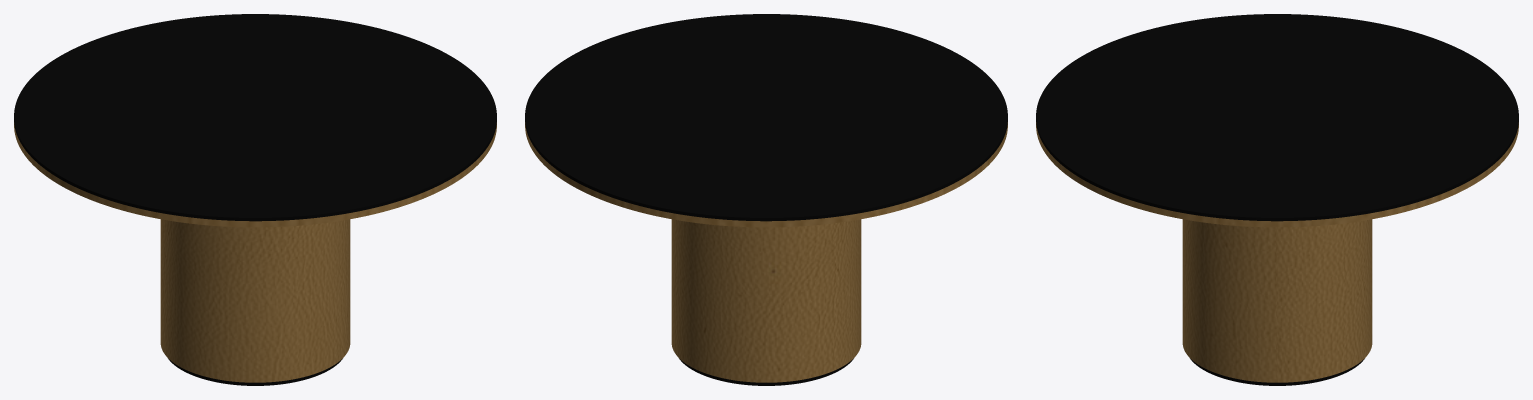
The model's file is Mesa Jantar C443.fbx.
3 renders of one model, left to right at view 1: azimuth 30°, elevation 25°; view 2: azimuth 150°, elevation 25°; view 3: azimuth 270°, elevation 25°, orthographic.
Visible parts, largest first — view 1: Object_3, Object_1, Object_4, Object_2; view 2: Object_3, Object_1, Object_4, Object_2; view 3: Object_3, Object_1, Object_4, Object_2.
Part boxes in pixels (x1,y1,x2,y2): Object_3: (14,14,496,221); Object_1: (160,219,350,382); Object_4: (14,122,496,227); Object_2: (168,358,342,385); Object_3: (525,14,1007,221); Object_1: (671,219,861,382); Object_4: (525,122,1007,227); Object_2: (679,358,853,385); Object_3: (1036,14,1518,221); Object_1: (1182,219,1372,382); Object_4: (1036,122,1518,227); Object_2: (1190,358,1364,385).
Bounding box in the file's own units: 140 × 140 × 74.
Materials: 3 (1 with a texture image).
